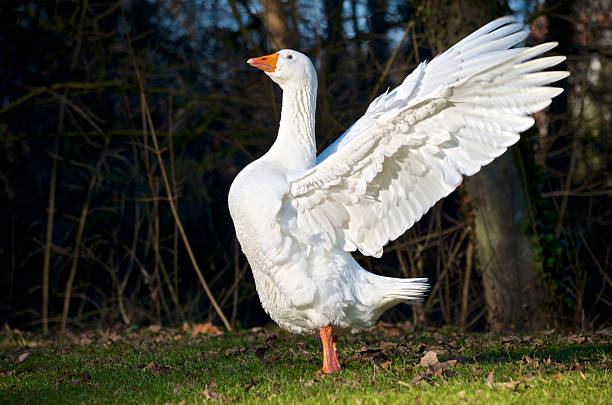goose: (223, 17, 569, 372)
